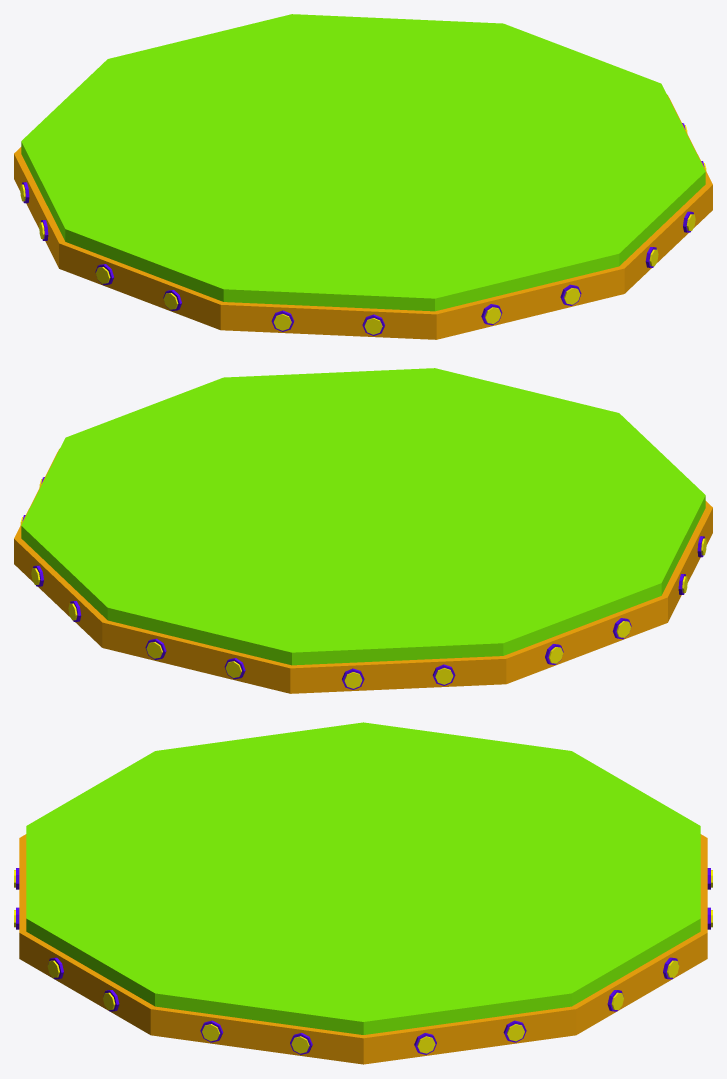
The model's file is Platform.fbx.
3 renders of one model, top to bottom at view 1: azimuth 30°, elevation 25°; view 2: azimuth 150°, elevation 25°; view 3: azimuth 270°, elevation 25°, orthographic. The views are drawn at different scales.
Visible parts, largest first — view 1: Platform1, Platform; view 2: Platform1, Platform; view 3: Platform1, Platform.
Part boxes in pixels (x1=…): Platform1: x1=21, y1=14, x2=705, y2=311; Platform: x1=14, y1=95, x2=712, y2=339; Platform1: x1=21, y1=368, x2=705, y2=665; Platform: x1=14, y1=449, x2=712, y2=693; Platform1: x1=26, y1=722, x2=700, y2=1034; Platform: x1=19, y1=834, x2=707, y2=1064.
Bounding box in the file's own units: 10 × 0.6 × 9.66.
